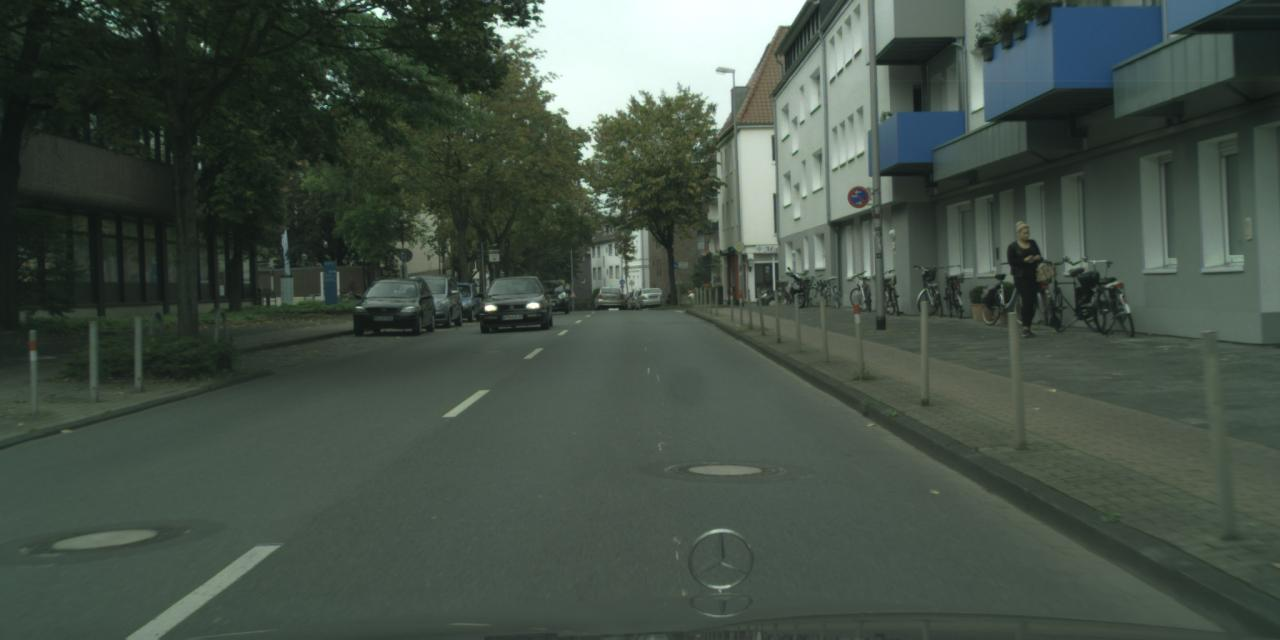ped: (1000, 220, 1048, 338)
